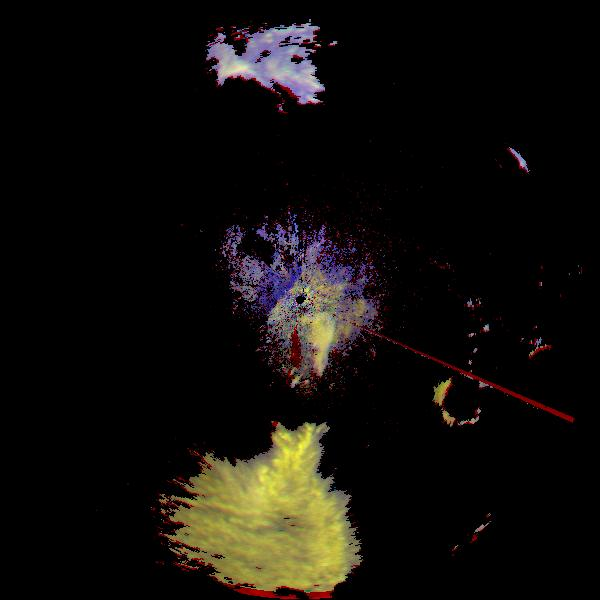roost: (238, 304, 343, 409), (428, 364, 503, 439)
